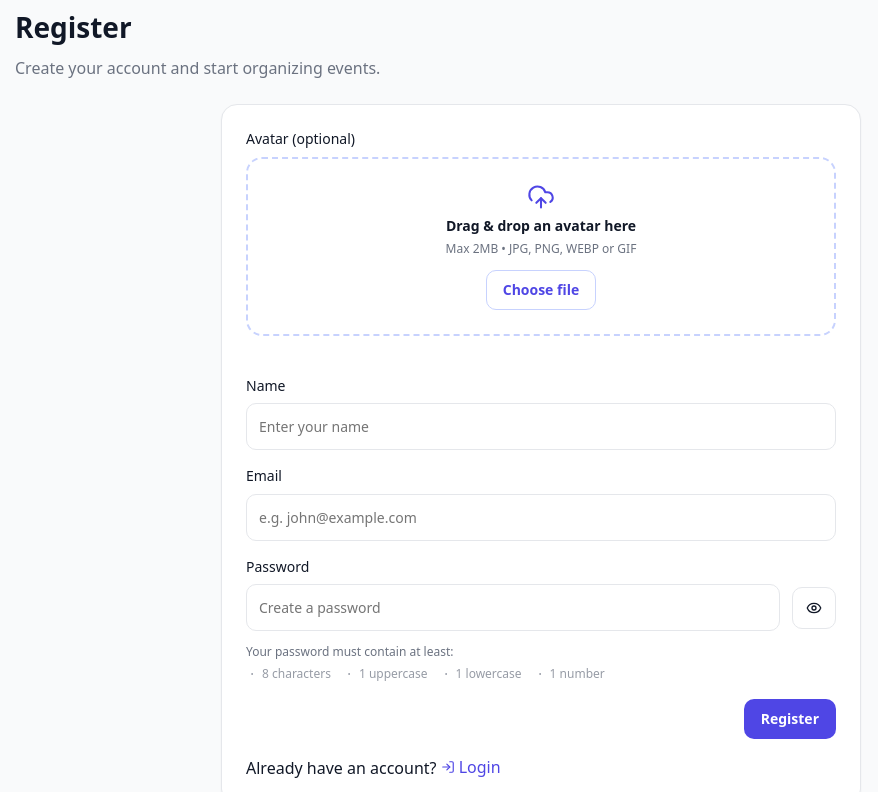
RegisterPage › shows loading state while submitting
Step 1. Type "John Doe" into the field labelled "Name" → (541, 427), box left=246, top=403, right=836, bottom=450
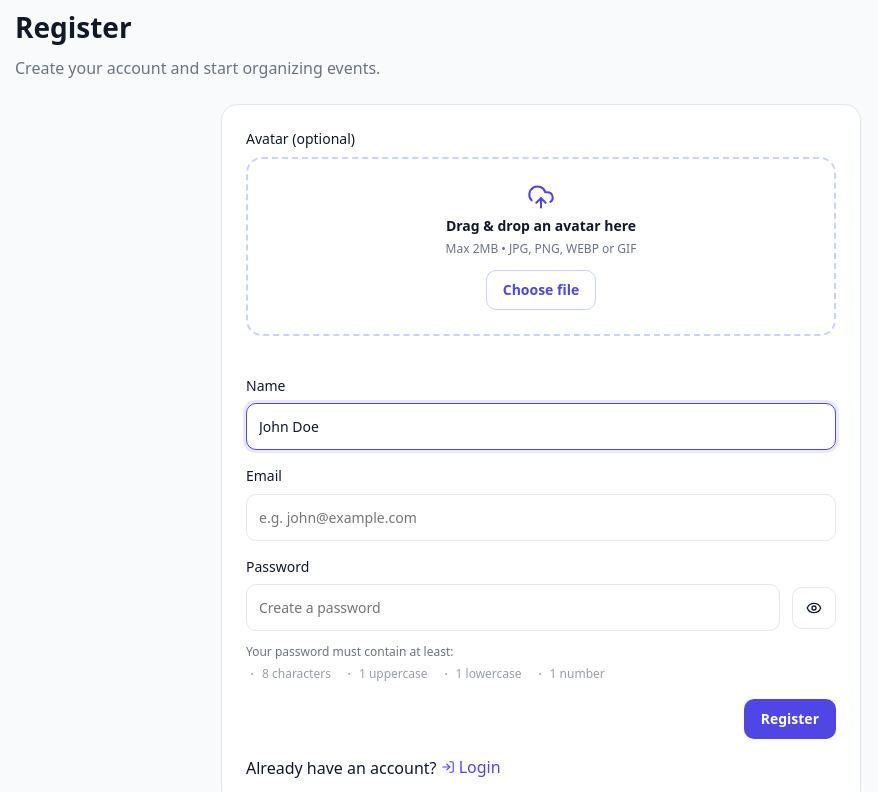
Step 2. Type "john@test.com" into the field labelled "Email" → (541, 517), box left=246, top=494, right=836, bottom=541
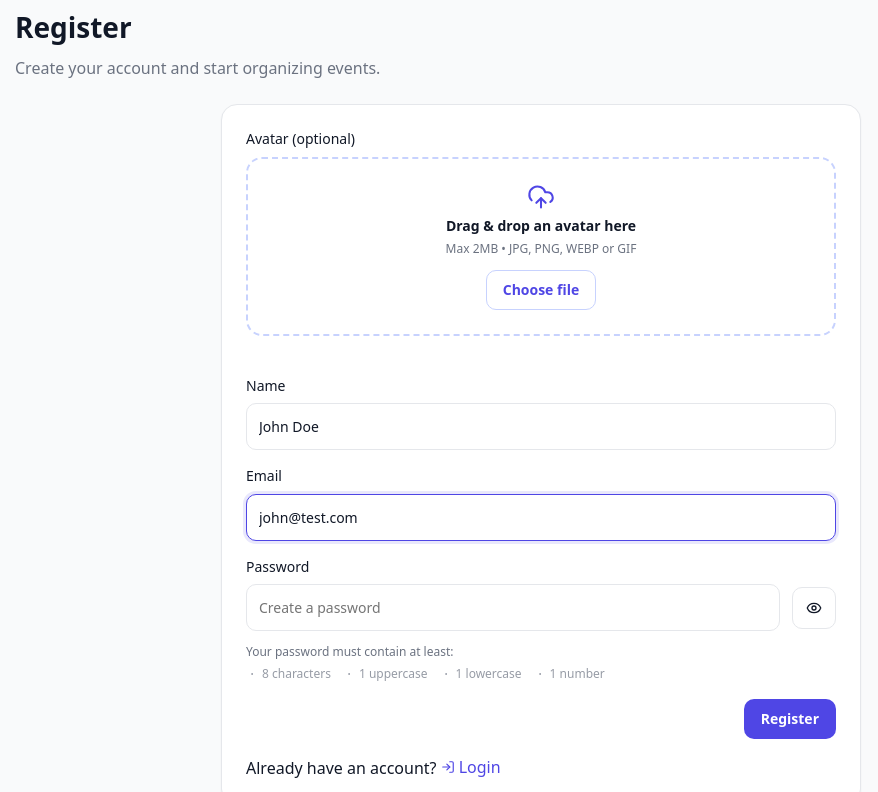
Step 3. Type "Password123" into the password field labelled "Password" → (513, 608), box left=246, top=584, right=780, bottom=631
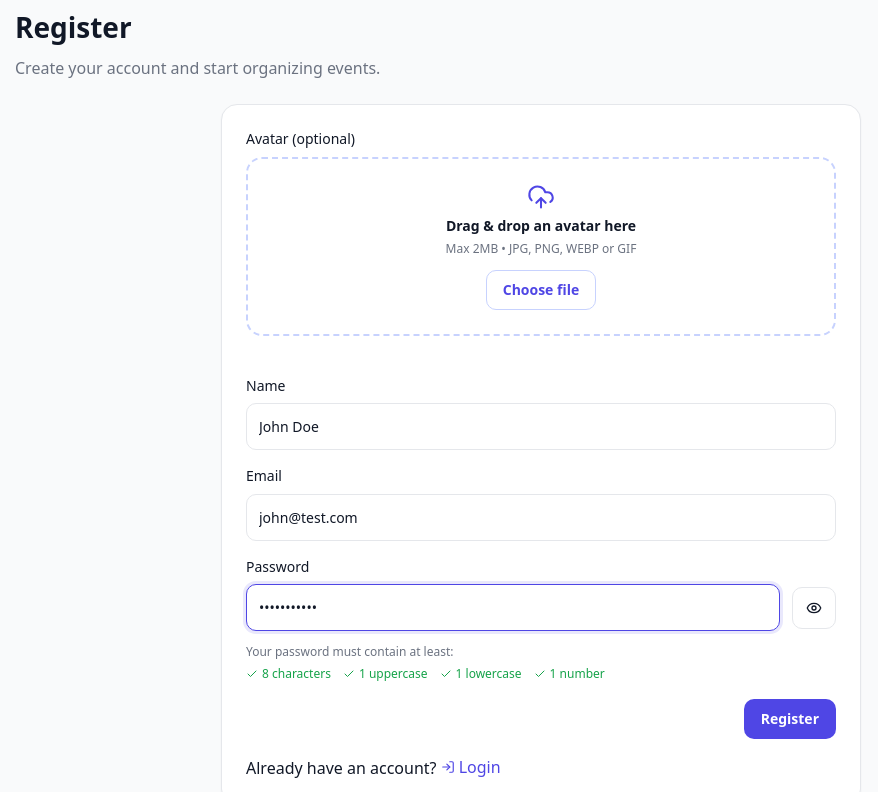
Step 4. Click the button "Register" → (790, 719), box left=744, top=699, right=836, bottom=739
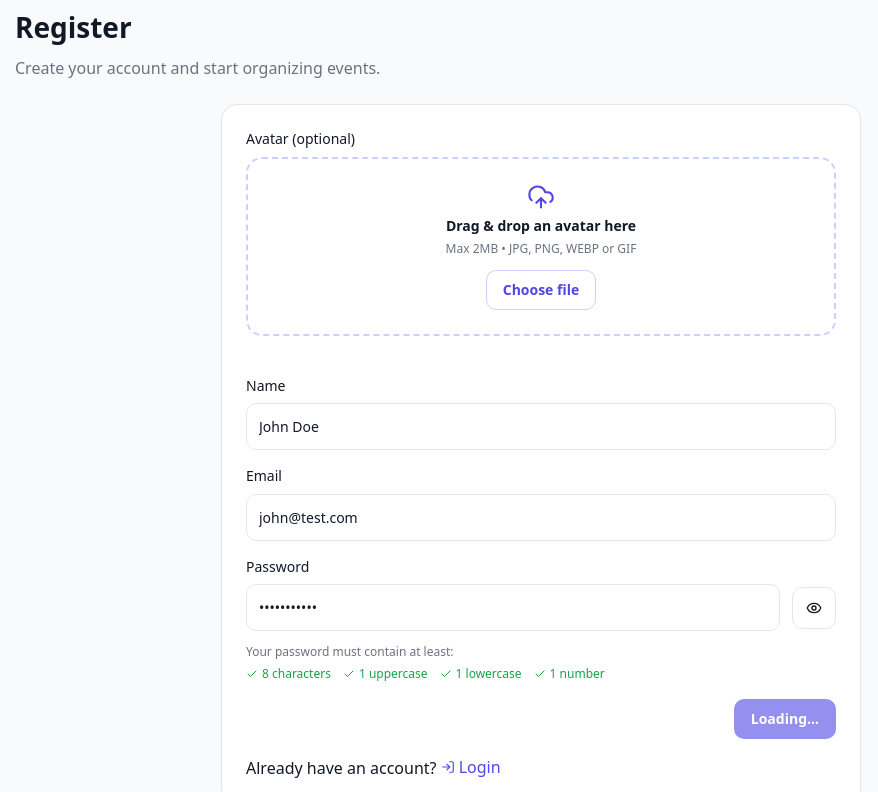
Expected: the button "Loading..." is disabled, left=734, top=699, right=836, bottom=739
